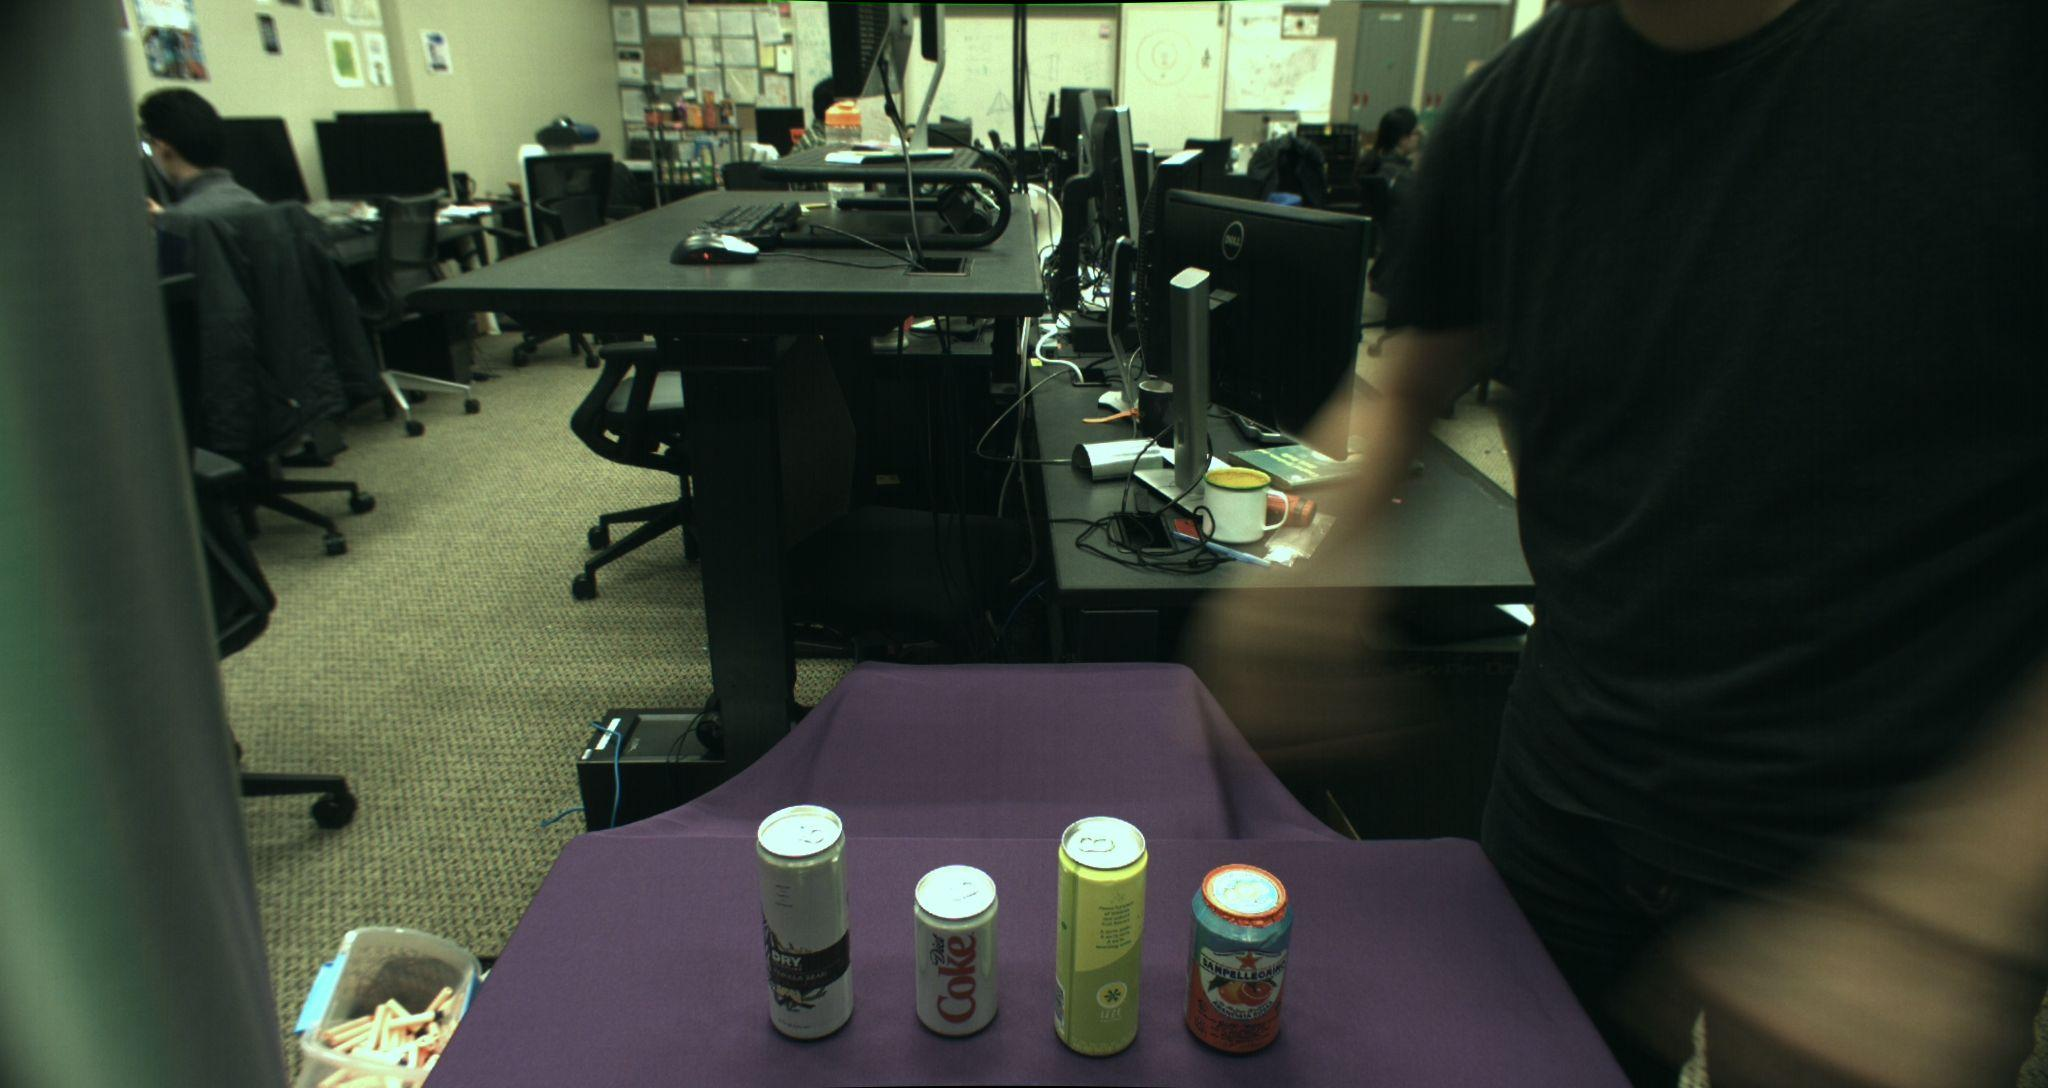can_diet_coke_small: (912, 864, 1000, 1038)
can_dry_sparkling_vanilla_bean: (754, 803, 853, 1041)
can_izze_fusions_lemon_lime: (1052, 816, 1149, 1058)
can_sanpellegrino_blood_orange: (1182, 862, 1294, 1055)
